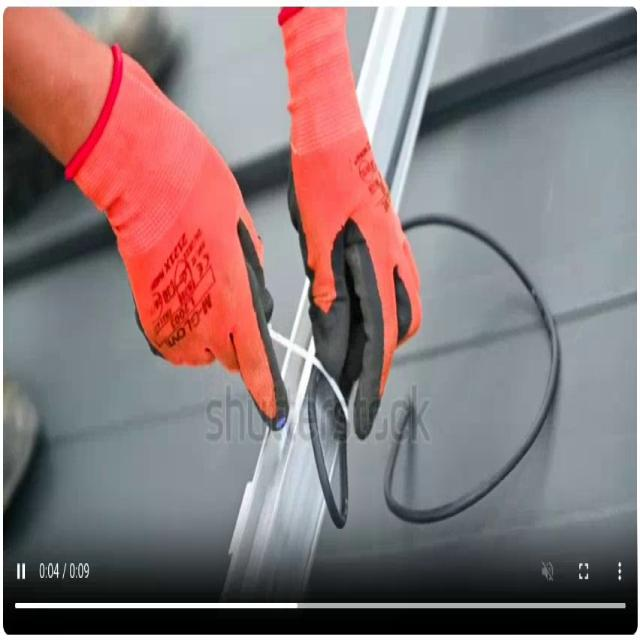gloved: (64, 41, 289, 431), (277, 5, 422, 439)
